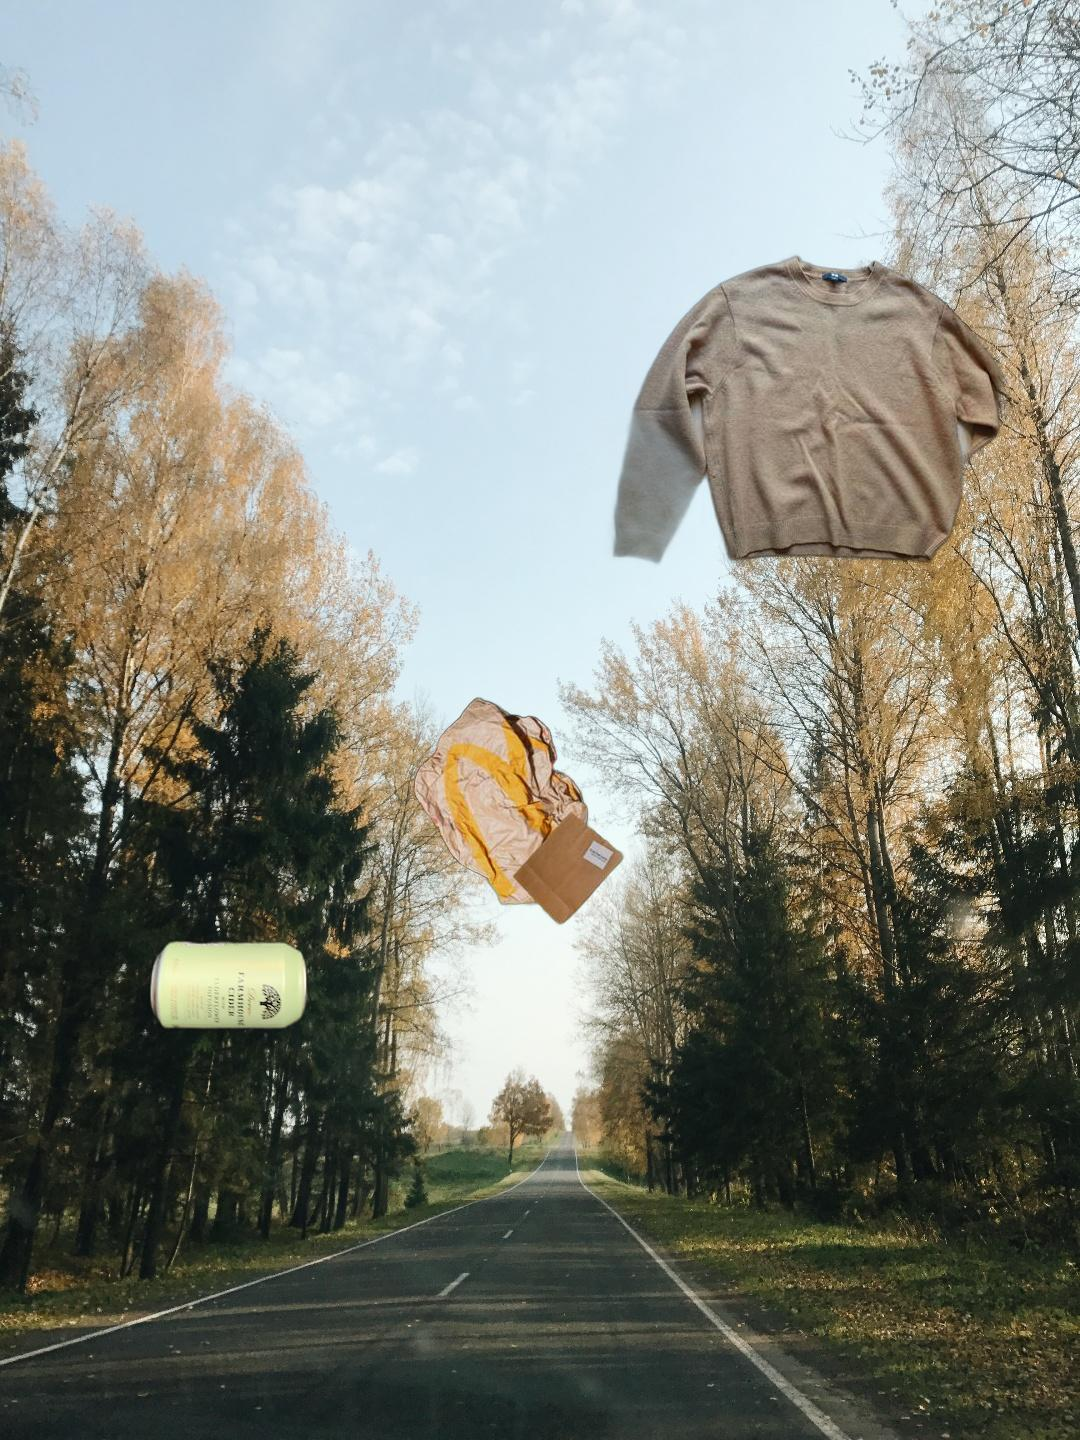clothes: (593, 252, 1021, 587)
metal-cans: (145, 934, 313, 1035)
paper-bag: (411, 695, 626, 927)
